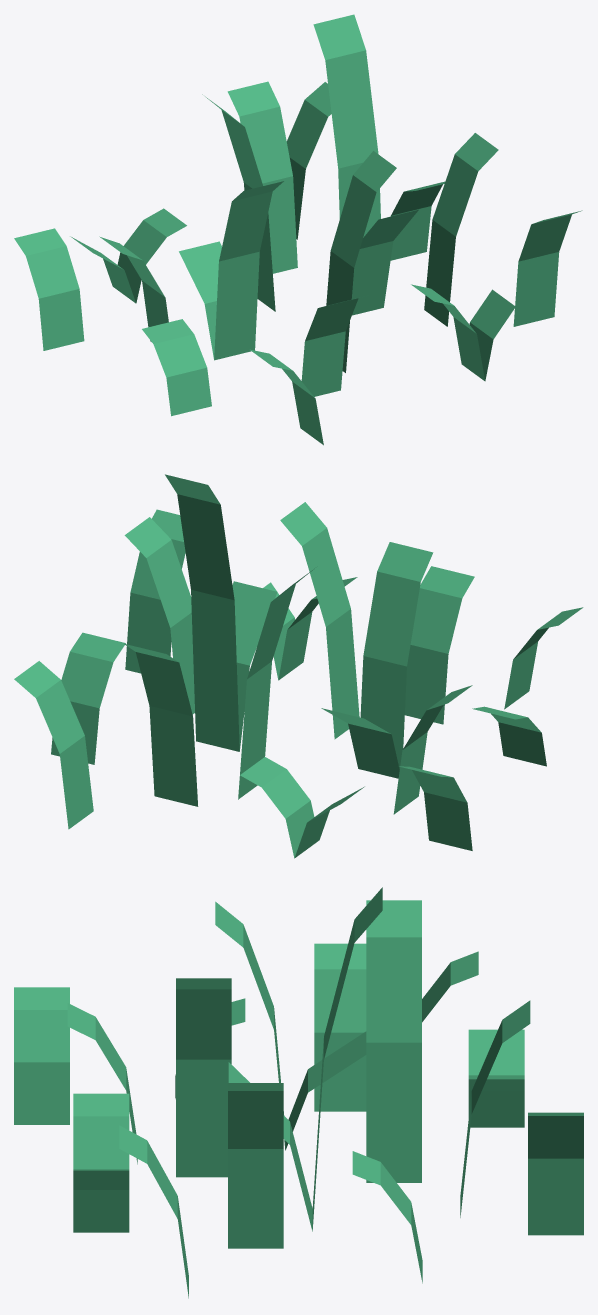
The model's file is grass_tuft_large.glb.
The picture shows the model from 3 angles, top to bottom: view 1: azimuth 30°, elevation 25°; view 2: azimuth 150°, elevation 25°; view 3: azimuth 270°, elevation 25°; orthographic projection. The views are drawn at different scales.
Visible parts, largest first — view 1: grass_tuft_large; view 2: grass_tuft_large; view 3: grass_tuft_large.
Part boxes in pixels (<box>): grass_tuft_large: <box>14,14,582,445</box>; grass_tuft_large: <box>14,474,583,858</box>; grass_tuft_large: <box>14,887,583,1298</box>.
Bounding box in the file's own units: 0.409 × 0.254 × 0.4079.
